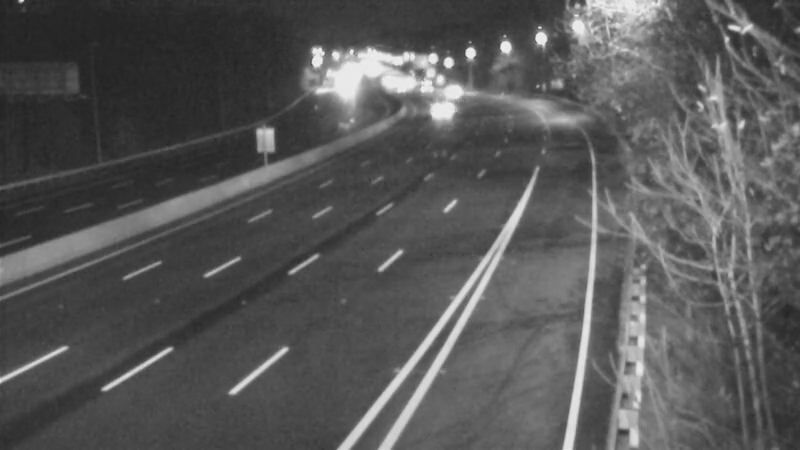vehicle: (396, 64, 446, 114), (429, 67, 479, 117), (413, 93, 463, 143)
